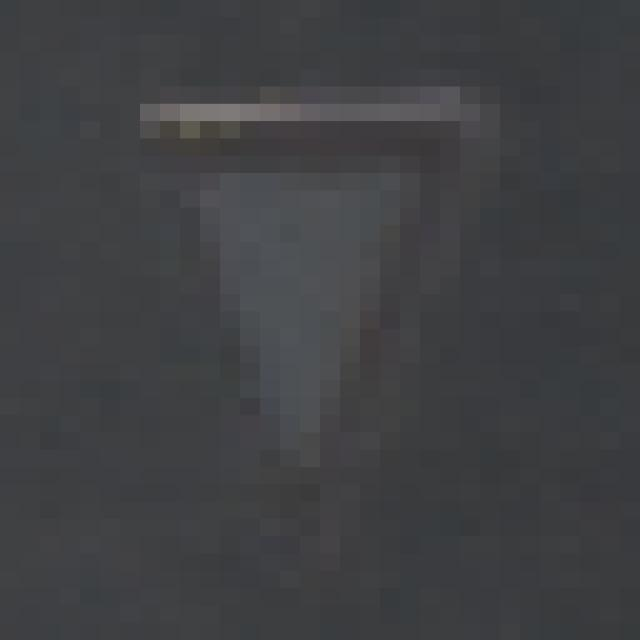Give Way: (101, 88, 541, 555)
